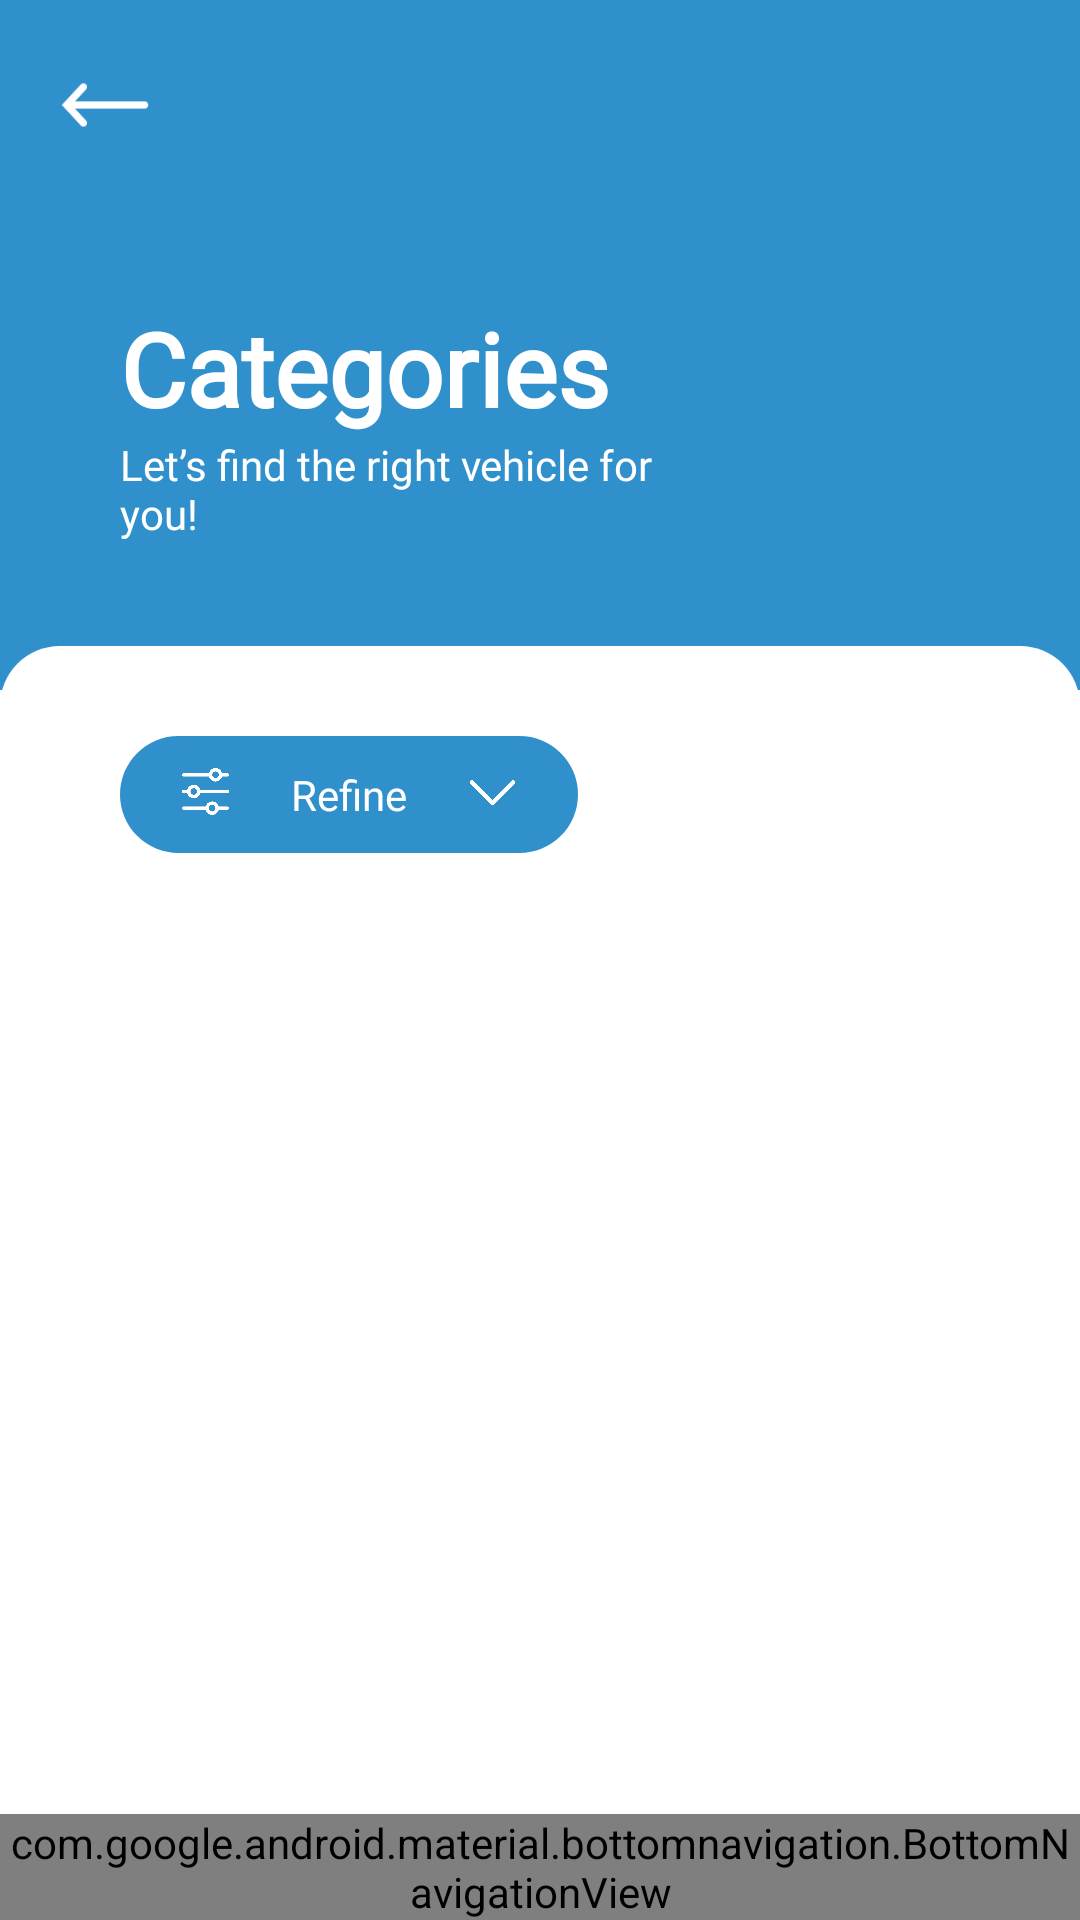

Icon click points for this 1080×1920 phone screenshot, format point (x, y):
back arrow: point (105, 105)
down: point (492, 792)
